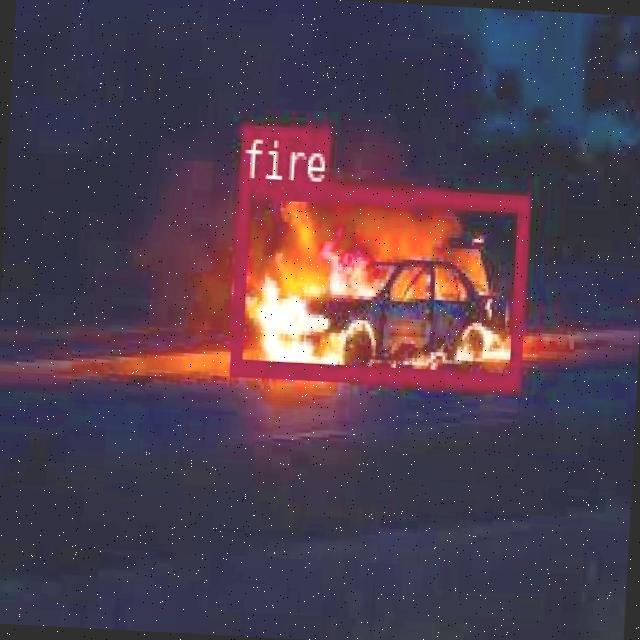fire: (229, 178, 526, 385)
